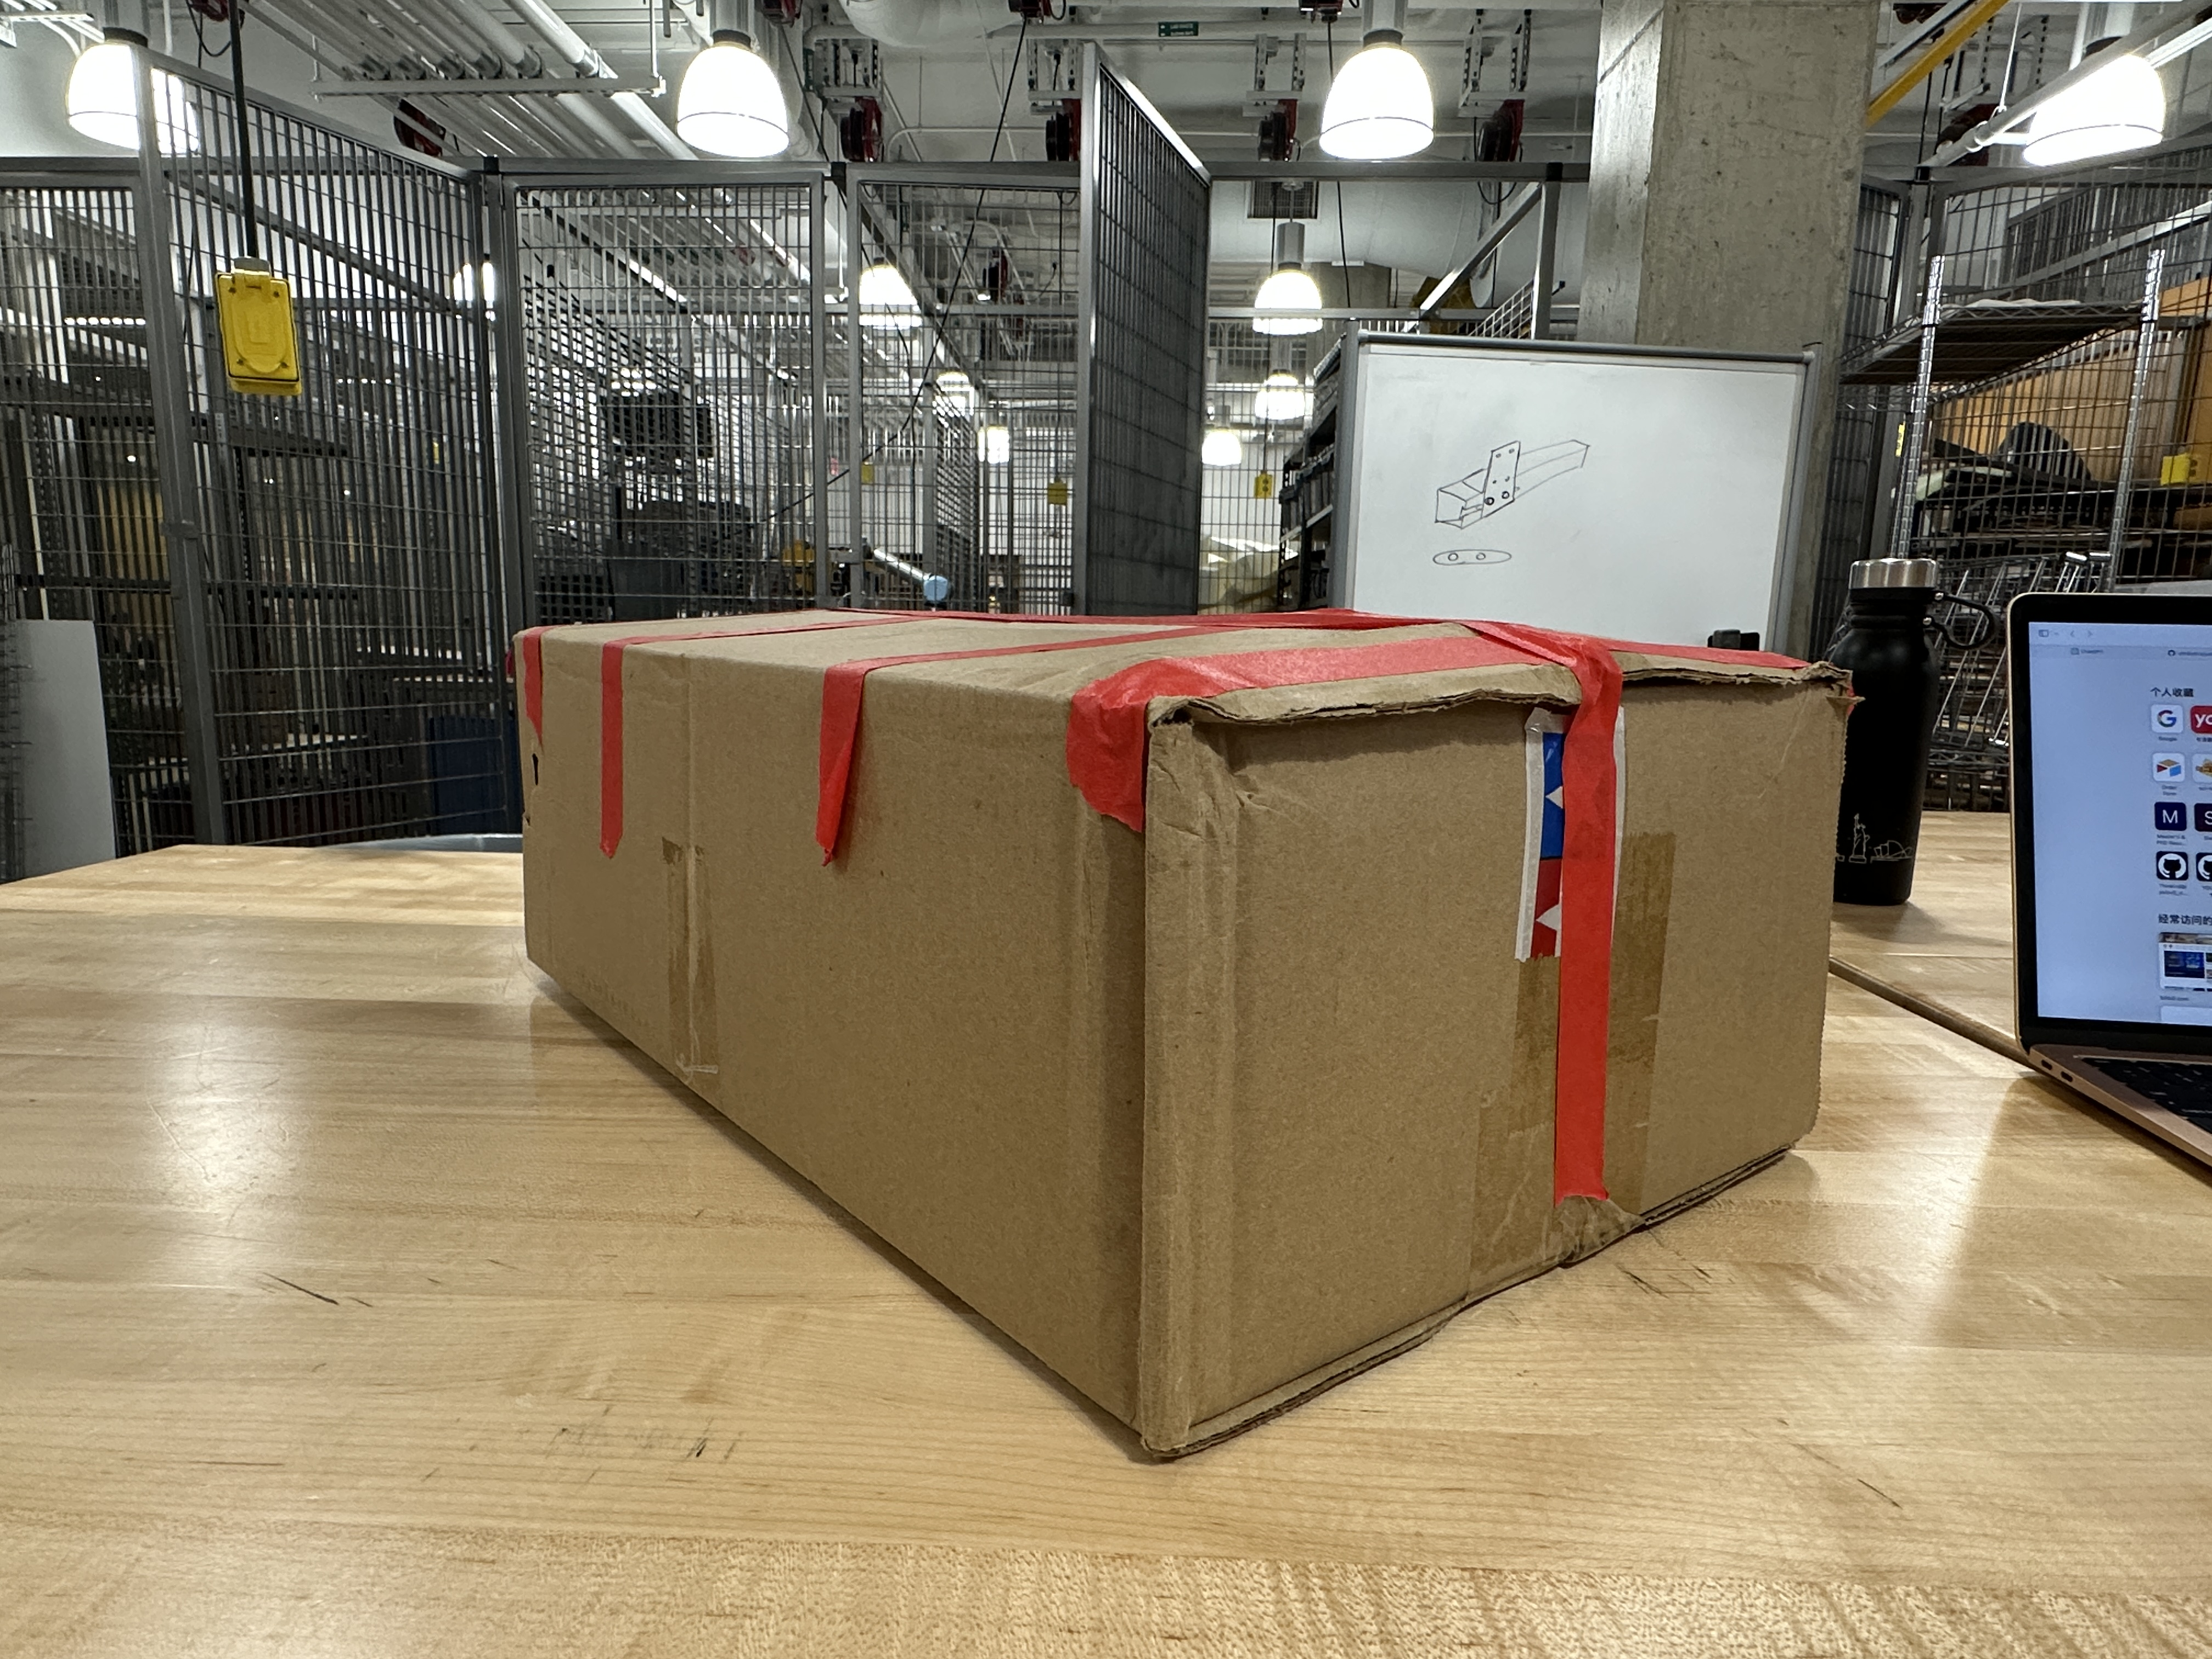Box_Obstacle: (503, 586, 1869, 1474)
